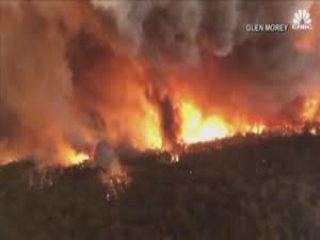fire: (112, 84, 263, 150), (61, 142, 94, 169)
smoke: (1, 3, 315, 103), (6, 48, 61, 184), (72, 112, 129, 192)
